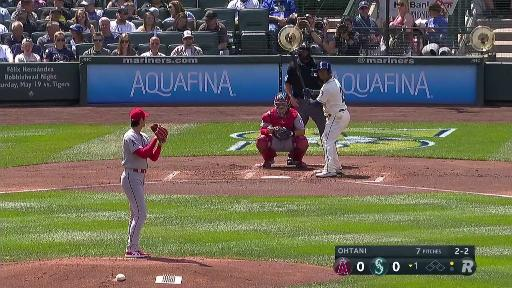pitcher: (119, 109, 170, 258)
